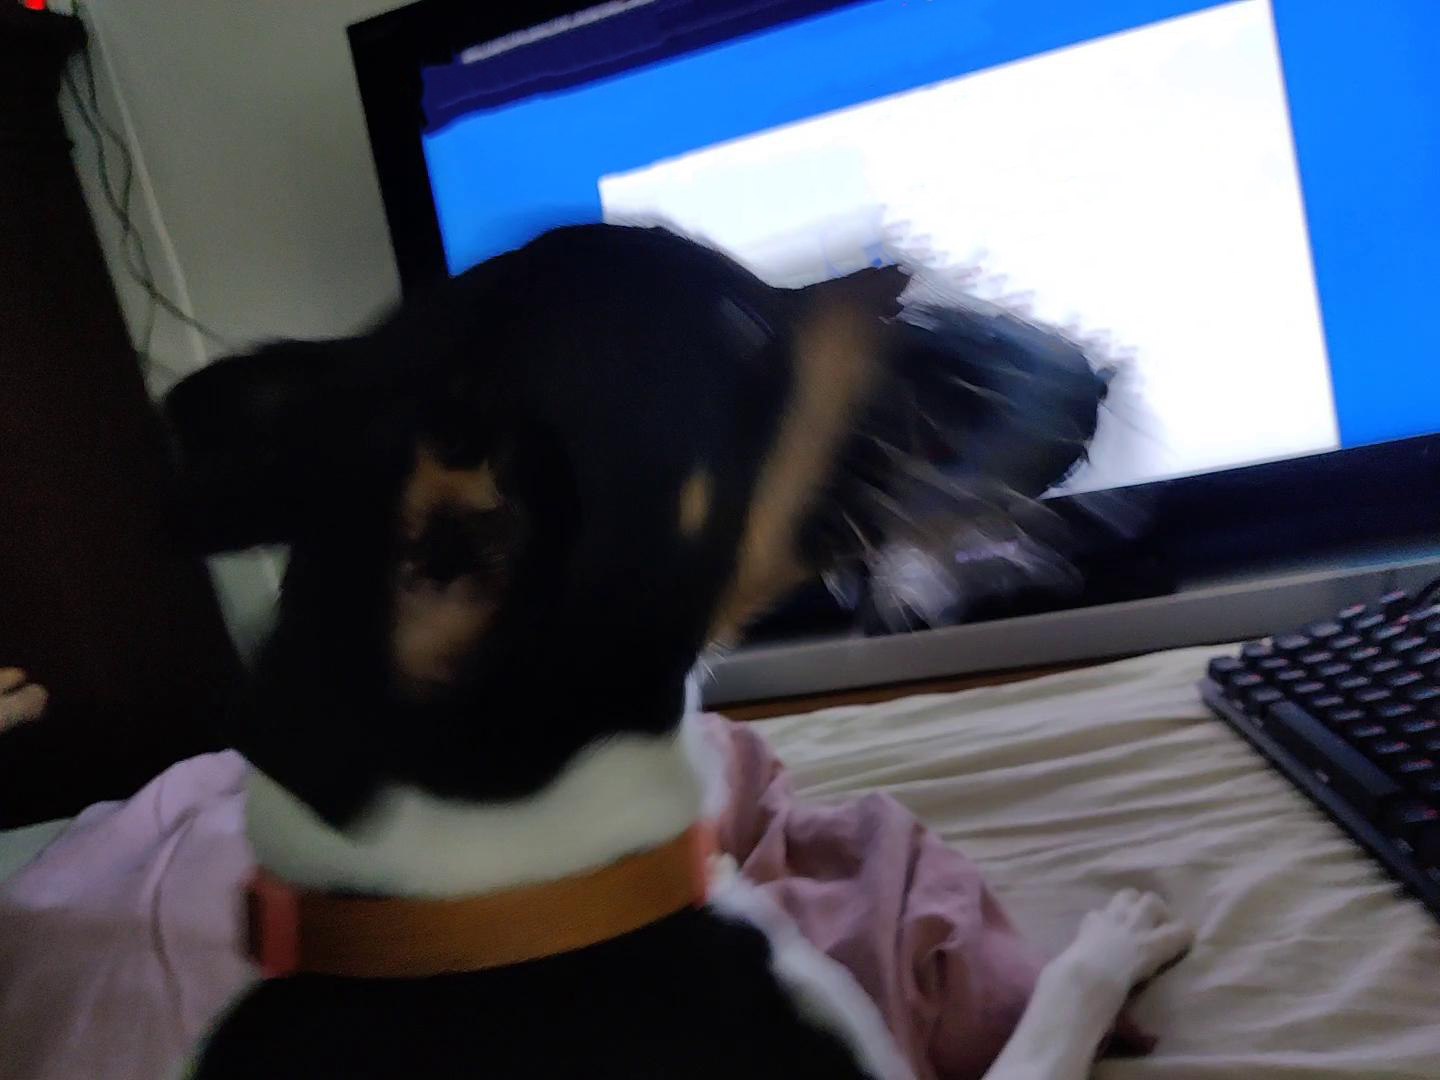Dog: (130, 212, 1203, 1079)
